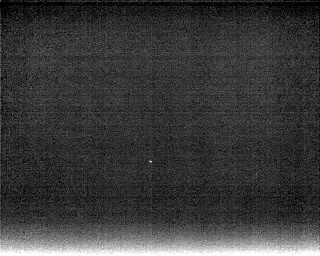BIRD: (147, 157, 156, 167)
